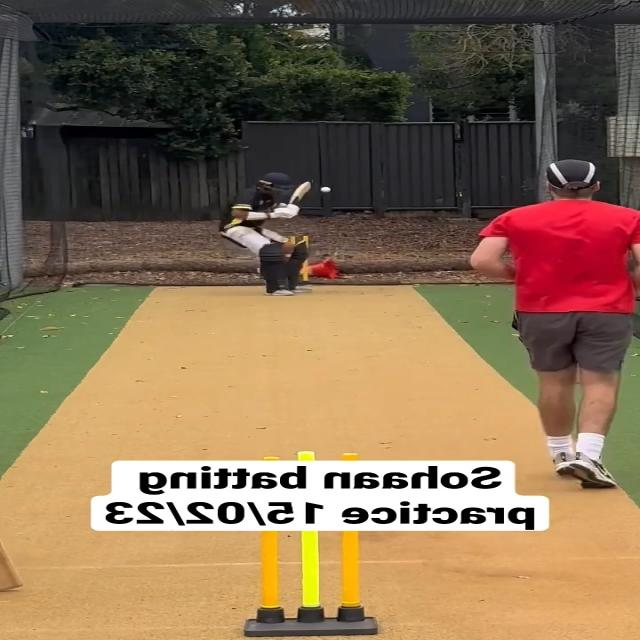ball: (319, 186, 332, 193)
stump: (244, 531, 375, 637)
